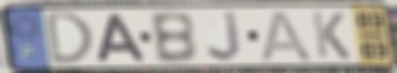A: (259, 9, 315, 63), (95, 13, 149, 64)
B: (147, 10, 200, 65)
D: (45, 10, 96, 67)
J: (206, 10, 245, 64)
K: (309, 10, 353, 61)
